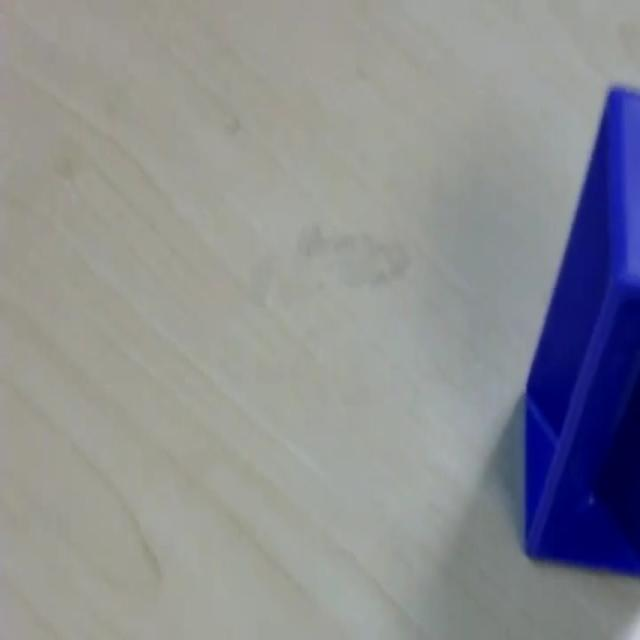blue_block: (522, 83, 638, 576)
